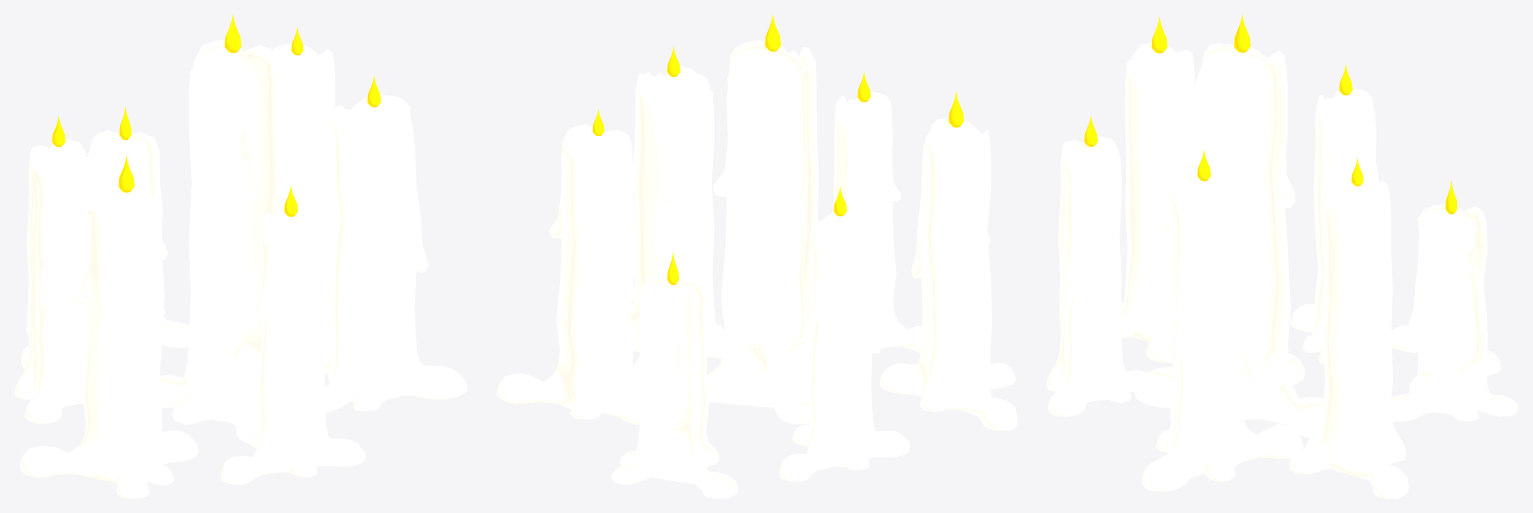
Rendered from Velas1.glb.
3 renders of one model, left to right at view 1: azimuth 30°, elevation 25°; view 2: azimuth 150°, elevation 25°; view 3: azimuth 270°, elevation 25°, orthographic. The views are drawn at different scales.
Visible parts, largest first — view 1: candle1_e, candle_f.001, candle_a.001, candle_d.001, candle_b.001, candle_c.001, candle1_g; view 2: candle1_e, candle_c.001, candle_a.001, candle_b.001, candle_f.001, candle1_g, candle_d.001; view 3: candle1_e, candle_f.001, candle_c.001, candle_d.001, candle_a.001, candle1_g, candle_b.001.
Boxes of the visible parts, box(x1,y1,x2,y2) form: candle1_e: box(158, 40, 281, 443); candle_f.001: box(324, 95, 467, 412); candle_a.001: box(20, 182, 198, 498); candle_d.001: box(221, 208, 365, 484); candle_b.001: box(14, 139, 89, 423); candle_c.001: box(272, 43, 335, 337); candle1_g: box(26, 130, 189, 347); candle1_e: box(706, 40, 818, 424); candle_c.001: box(496, 124, 641, 425); candle_a.001: box(879, 118, 1017, 430); candle_b.001: box(780, 210, 909, 481); candle_f.001: box(630, 65, 725, 377); candle1_g: box(611, 276, 738, 498); candle_d.001: box(833, 92, 921, 352); candle1_e: box(1134, 43, 1323, 438); candle_f.001: box(1142, 166, 1303, 491); candle_c.001: box(1289, 174, 1408, 498); candle_d.001: box(1046, 136, 1153, 416); candle_a.001: box(1120, 42, 1194, 362); candle1_g: box(1390, 204, 1518, 421); candle_b.001: box(1290, 88, 1418, 364).
Size of the model in its own units: 11.2 by 9.57 by 10.55.
